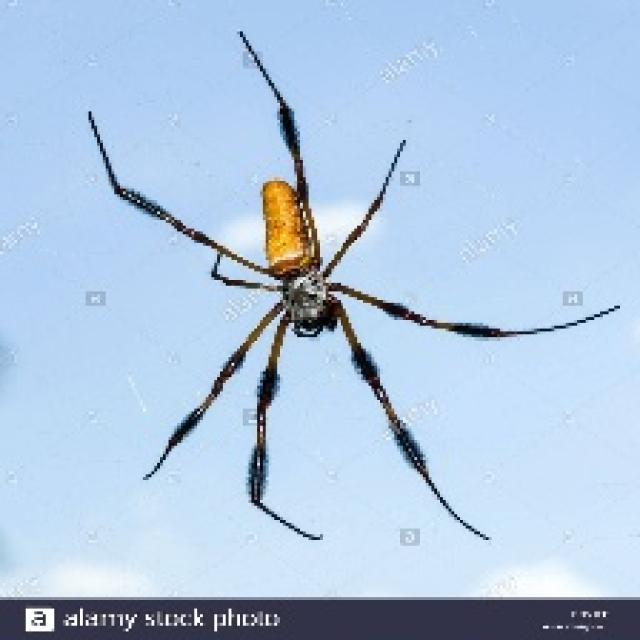Non venomous spider: (32, 27, 620, 554)
